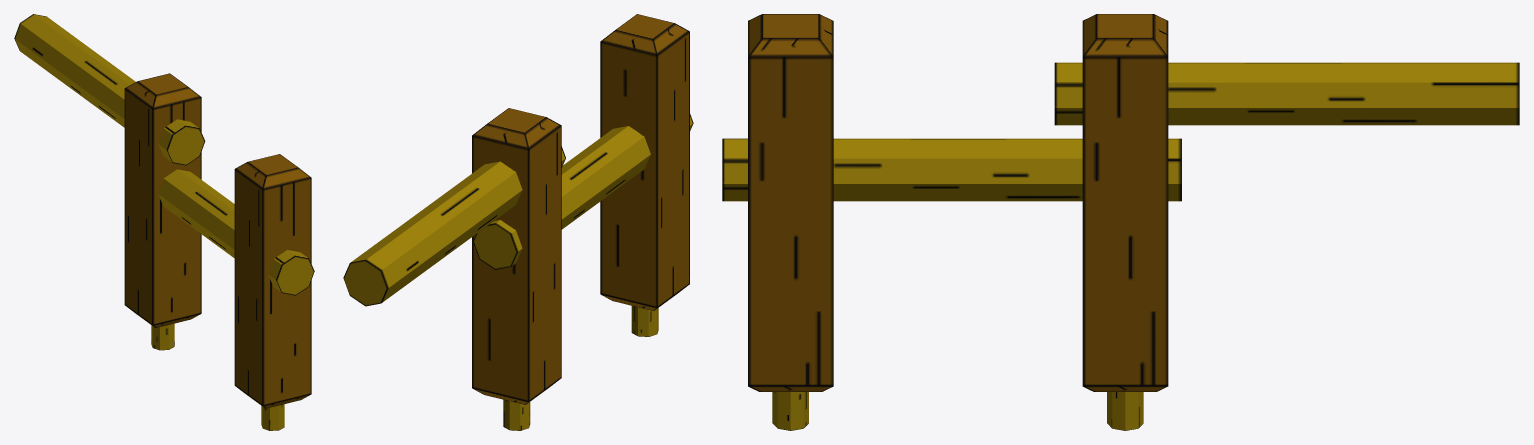
File: Fence1_3_Part.glb
The picture shows the model from 3 angles, left to right: view 1: azimuth 30°, elevation 25°; view 2: azimuth 150°, elevation 25°; view 3: azimuth 270°, elevation 25°; orthographic projection. The views are drawn at different scales.
Parts seen in each view (by area): view 1: Fence1_3_Part; view 2: Fence1_3_Part; view 3: Fence1_3_Part.
Part boxes in pixels (x1,y1,x2,y2): Fence1_3_Part: (14,14,314,430); Fence1_3_Part: (343,14,693,430); Fence1_3_Part: (722,14,1519,430).
Size of the model in its own units: 0.2561 by 1.31 by 2.38.
1 material, 1 textured.
